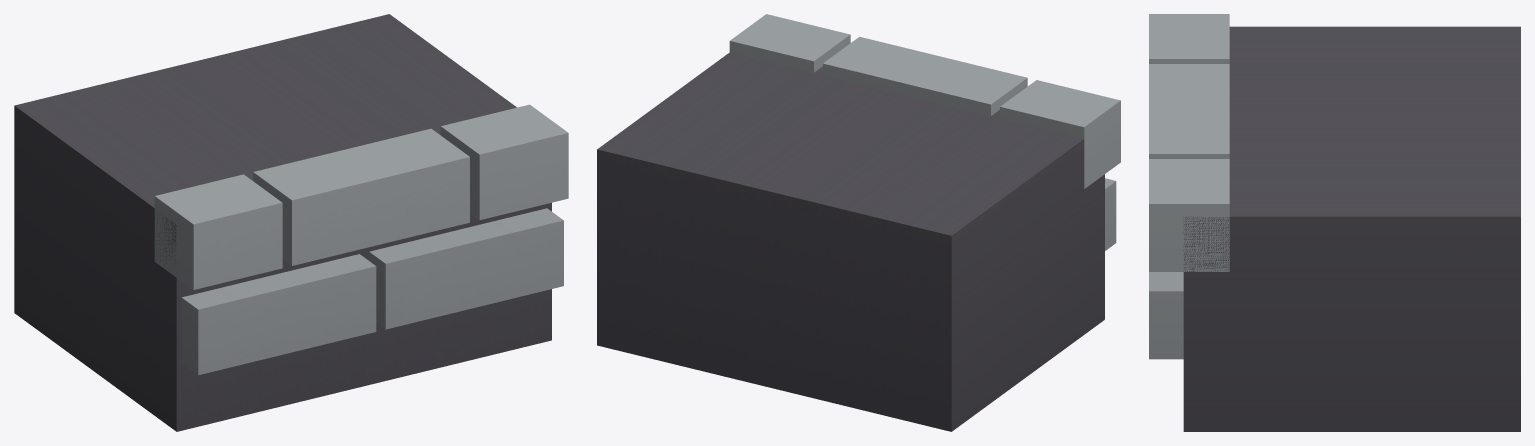
The model's file is SM_WallSide_Brick.fbx.
3 views of the same model, side by side, from view 1: azimuth 30°, elevation 25°; view 2: azimuth 150°, elevation 25°; view 3: azimuth 270°, elevation 25° (orthographic). The views are drawn at different scales.
Parts seen in each view (by area): view 1: WallSide_Brick; view 2: WallSide_Brick; view 3: WallSide_Brick.
Part boxes in pixels (x1,y1,x2,y2): WallSide_Brick: (14, 14, 568, 431); WallSide_Brick: (597, 14, 1120, 431); WallSide_Brick: (1149, 14, 1520, 431).
Size of the model in its own units: 200 by 112 by 165.
